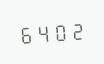four: (35, 21, 51, 43)
six: (18, 22, 34, 45)
two: (69, 18, 85, 41)
zero: (52, 19, 68, 42)
